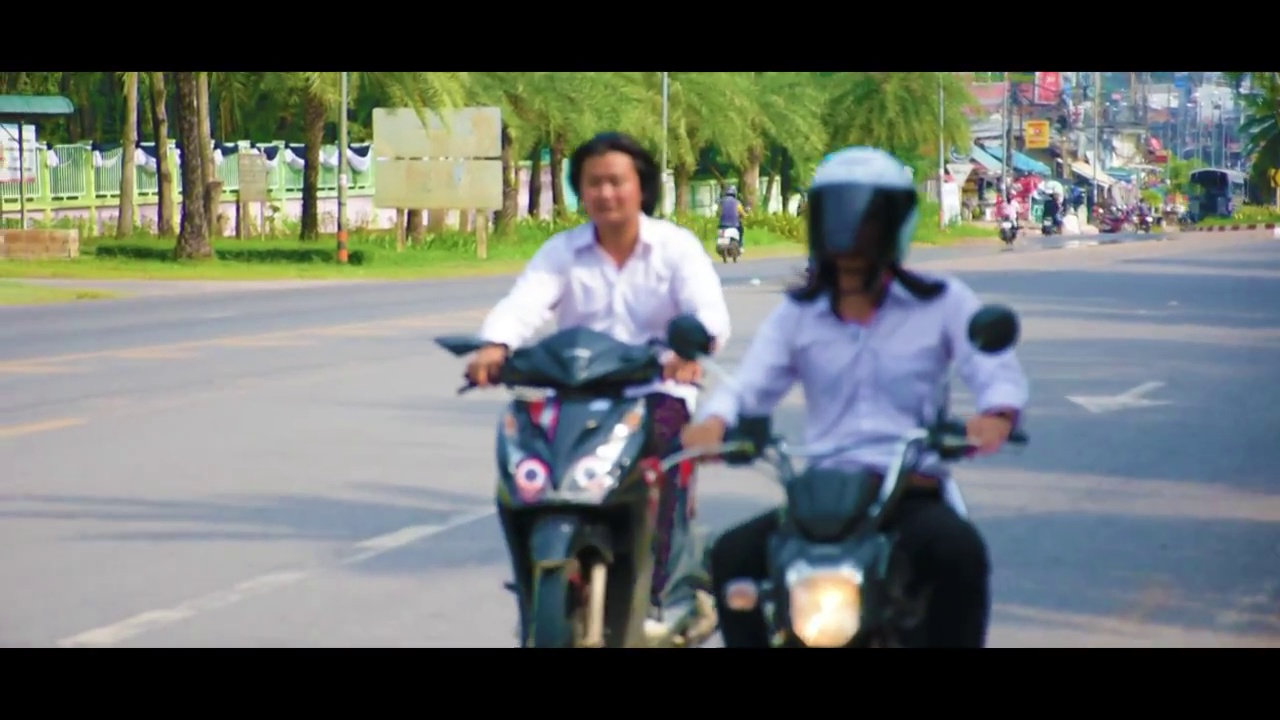helmet: (799, 140, 924, 284)
